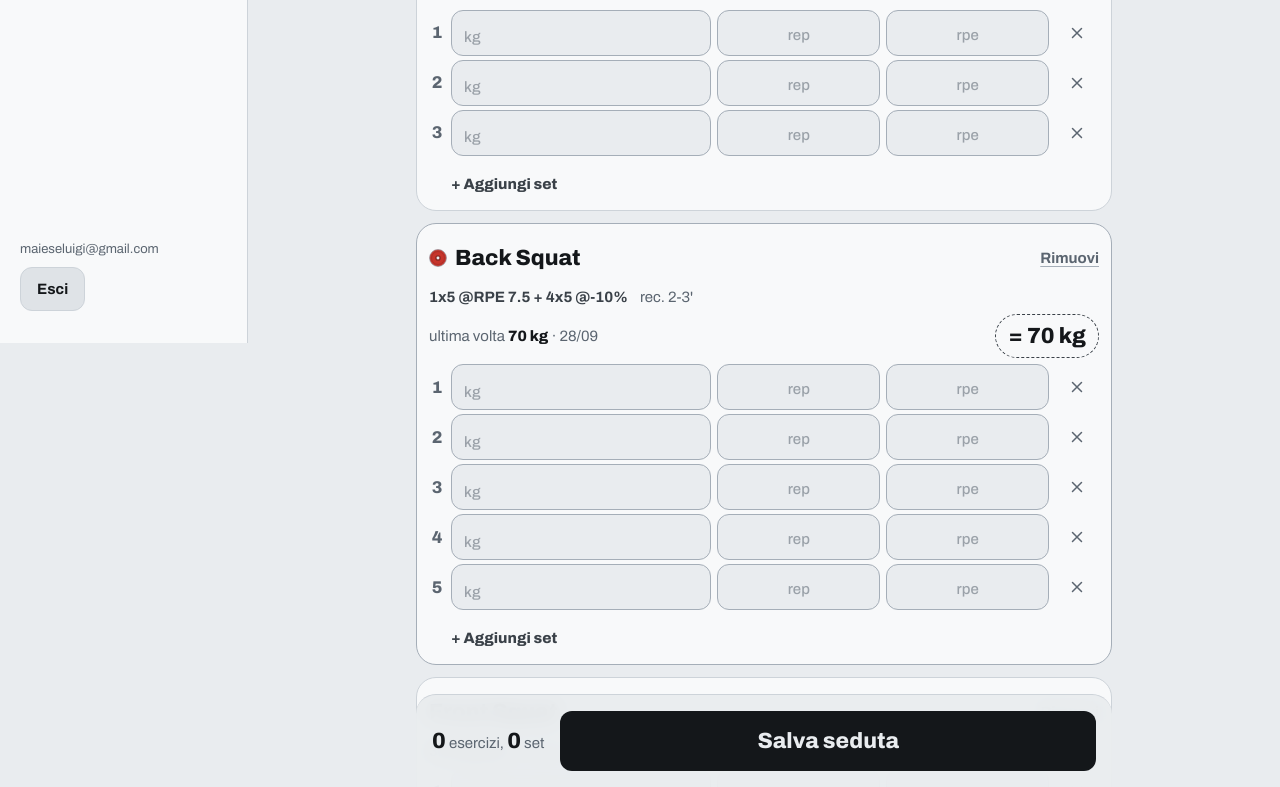
it: Registra › maps a Firebase failure to Italian, never the raw message
(page scrolled)
Step 1. Type "80" into the field named "Back Squat, set 1, kg" → {"x": 581, "y": 387}, box [451,364,711,410]
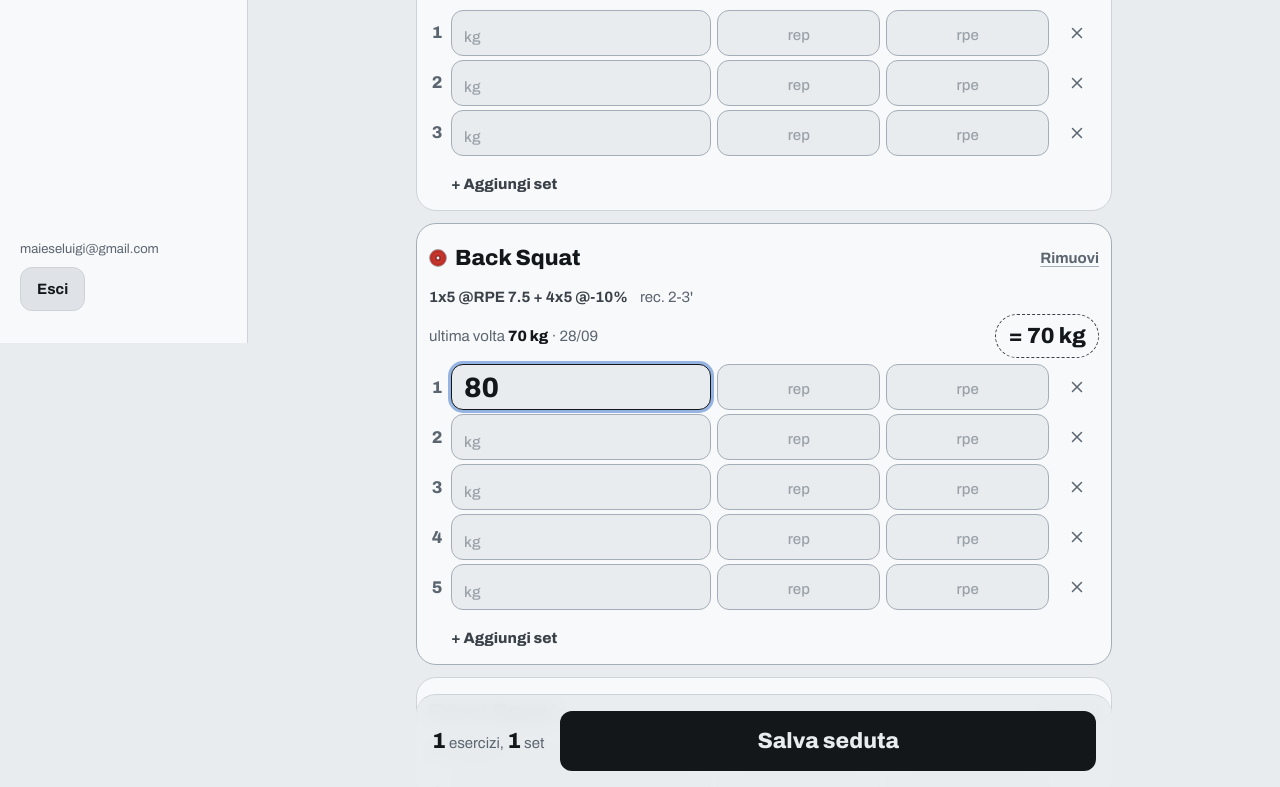
Step 2. Click the button "Salva seduta" → {"x": 828, "y": 741}, box [560,711,1096,771]
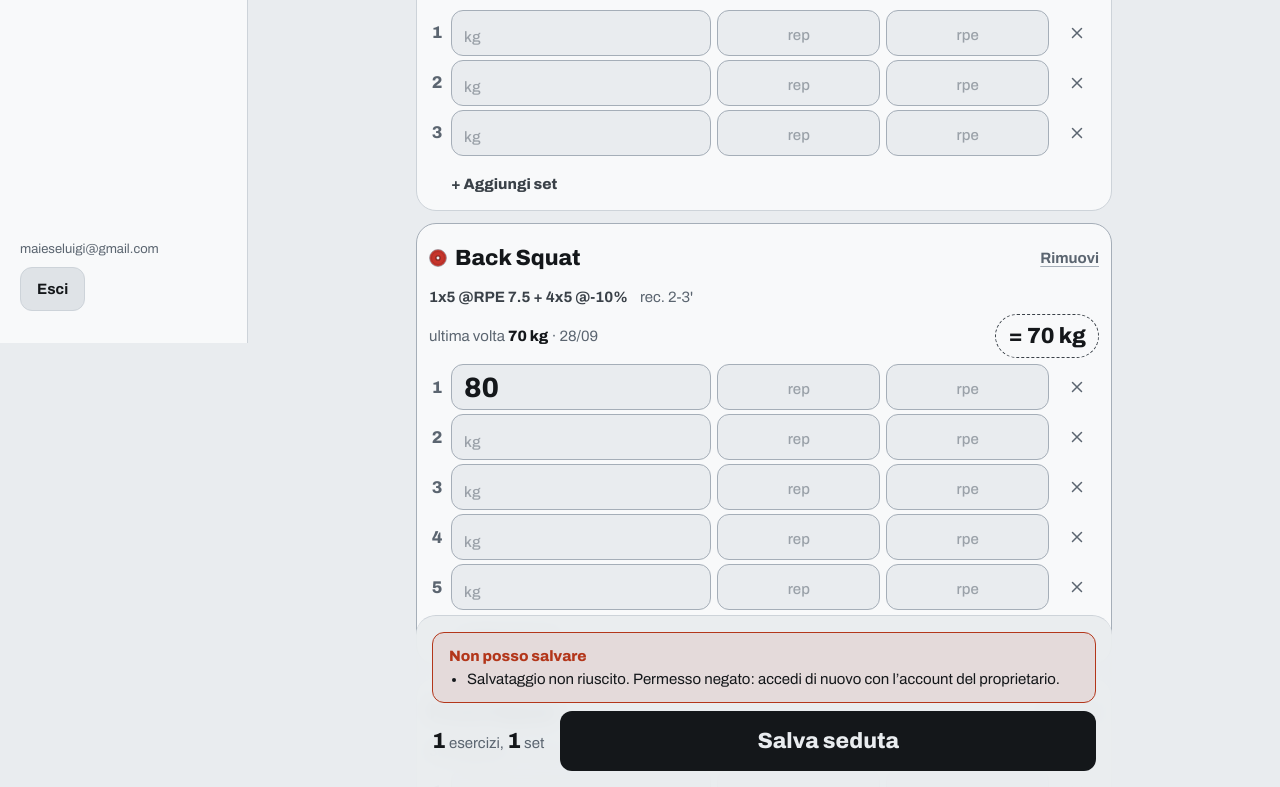
Expected: the message does not show "FirebaseError", [432,632,1096,703]
Result: the message shows "Salvataggio non riuscito. Permesso negato" at [467,670,1060,686]
